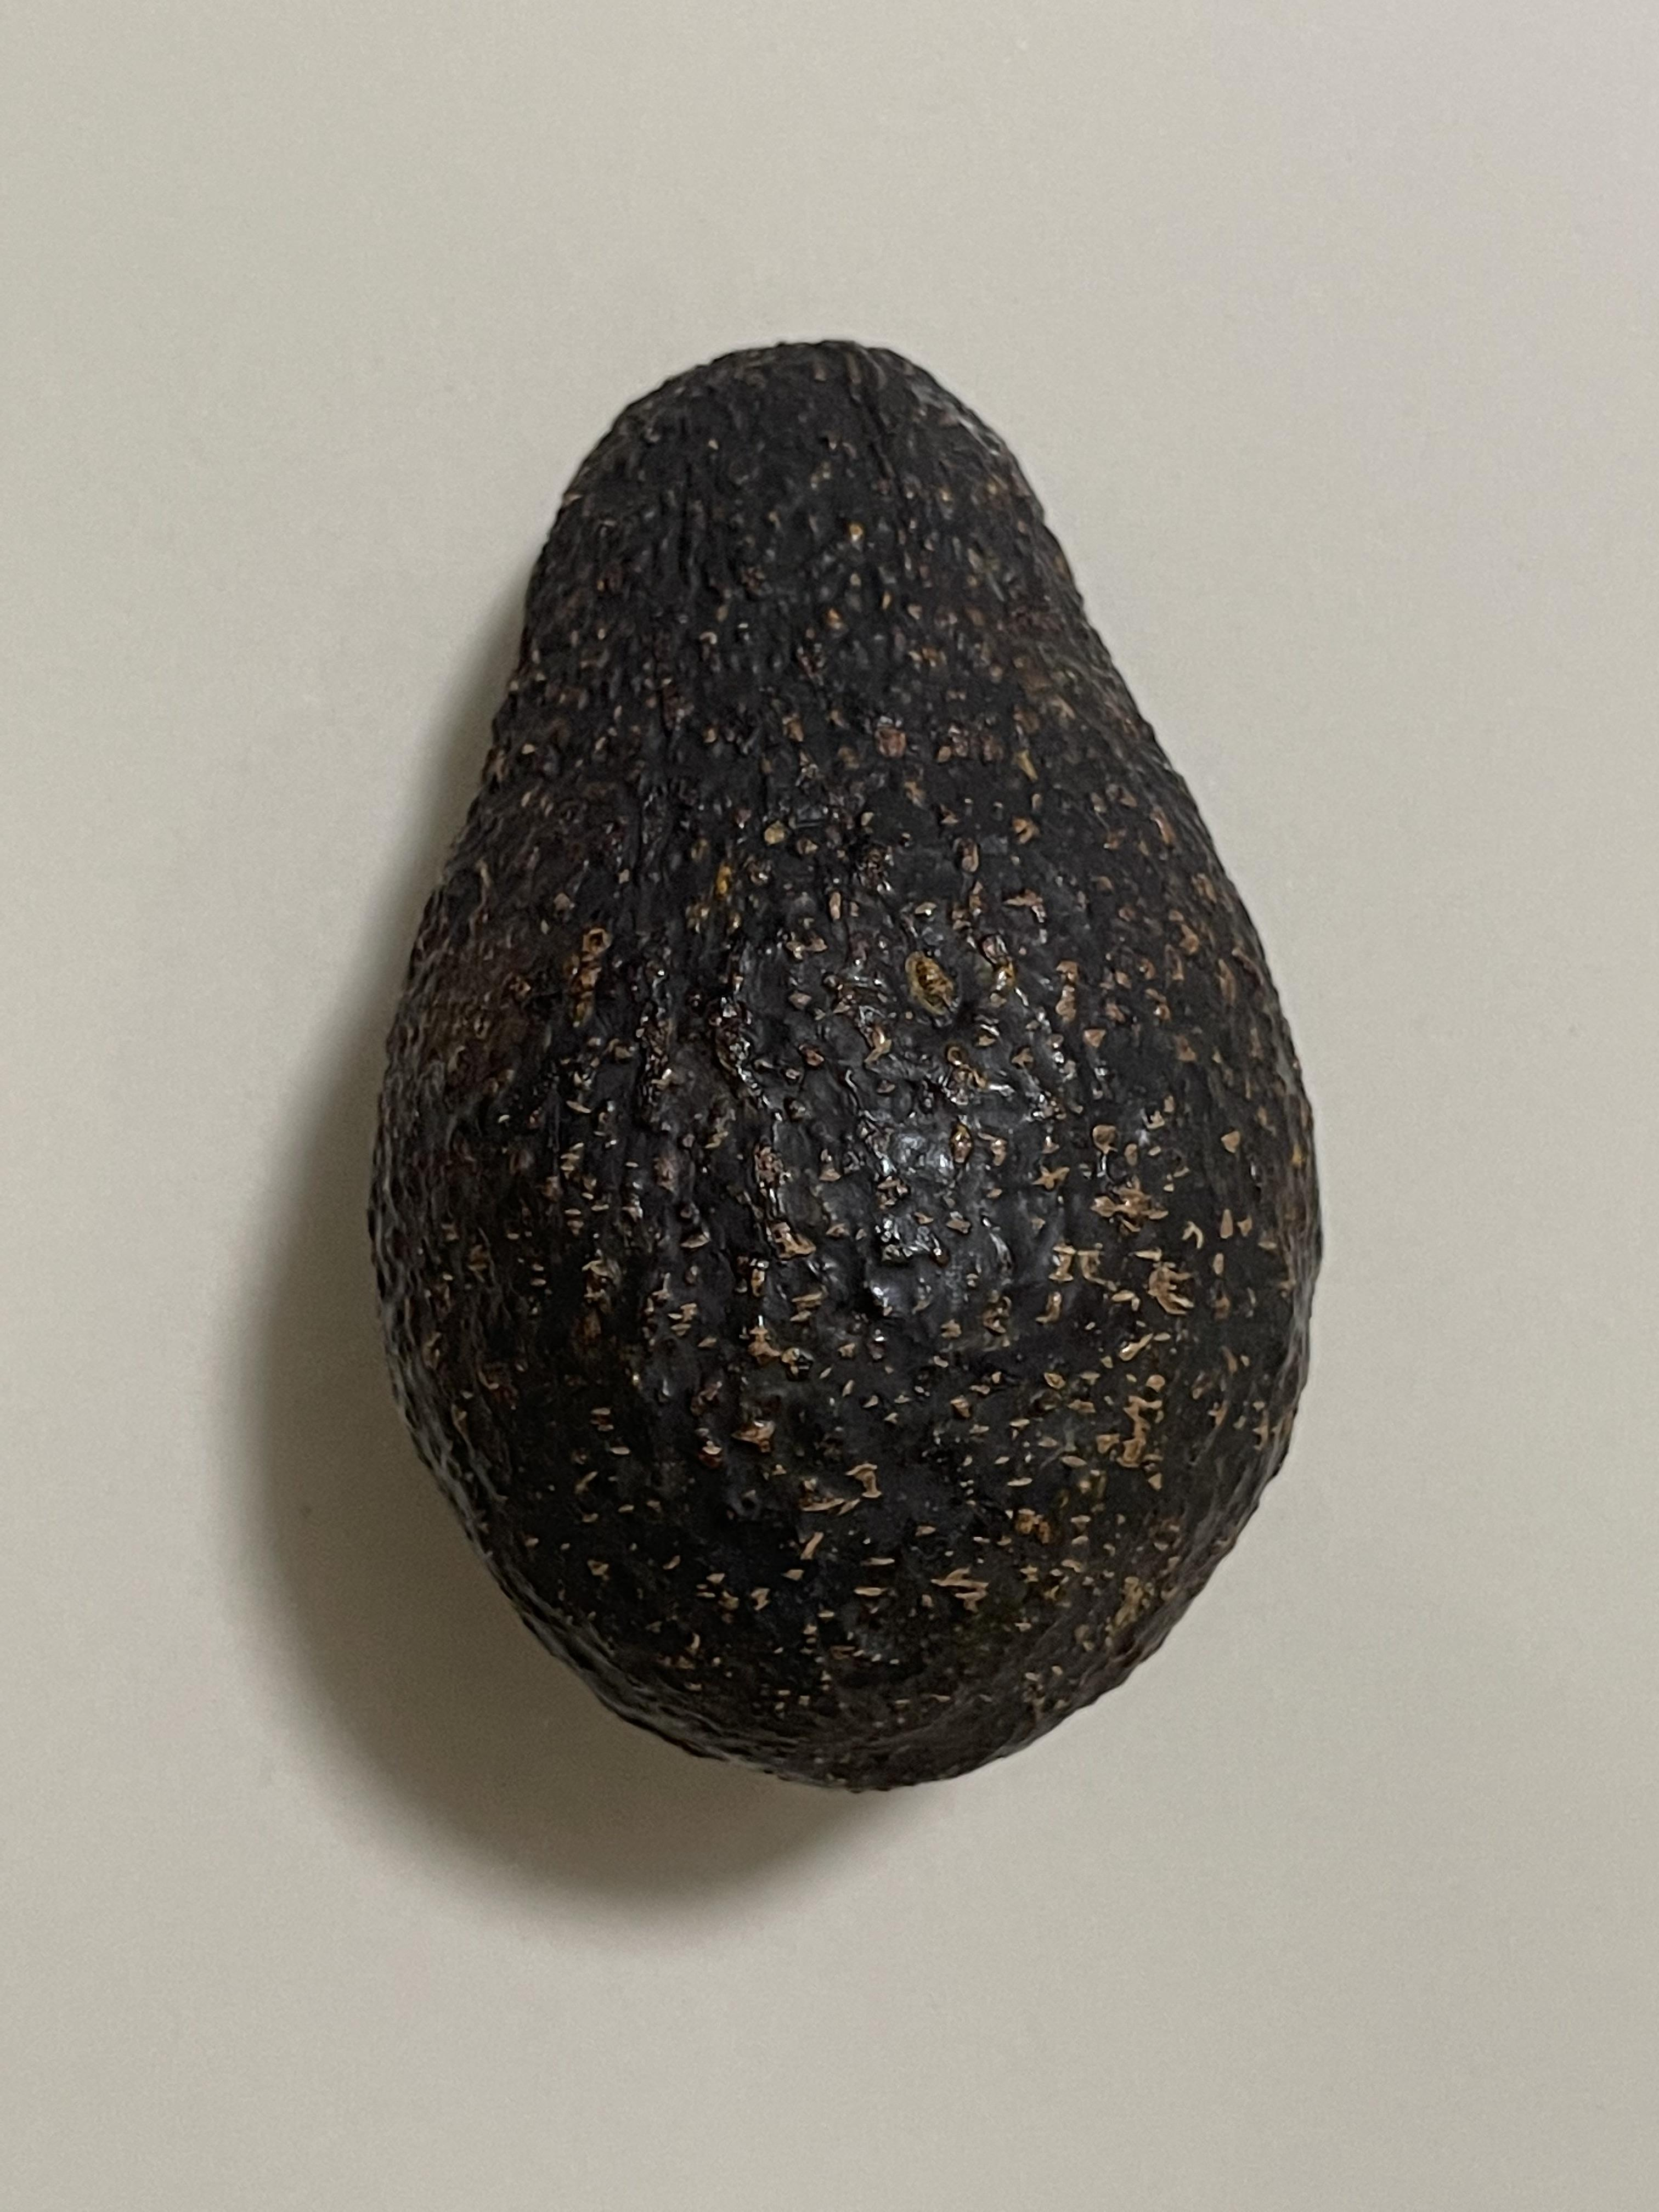Level2: (349, 314, 1338, 1813)
